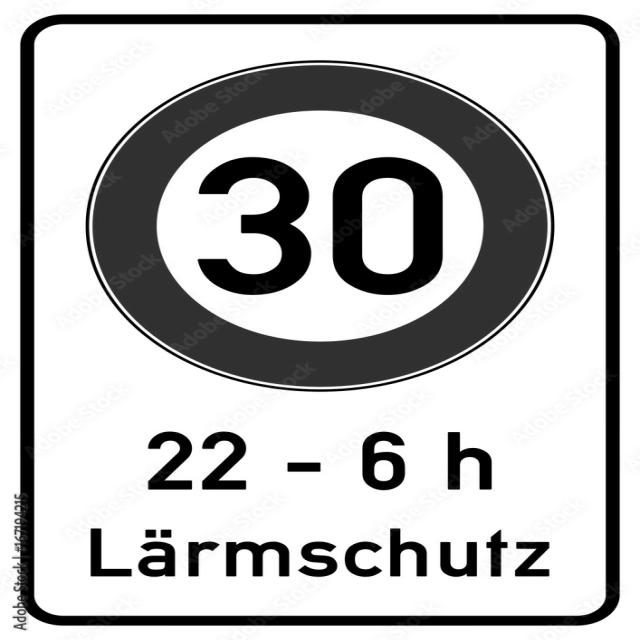speed_30: (82, 61, 556, 393)
